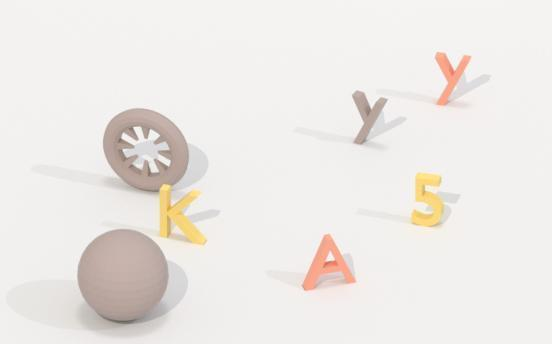chu_khoi: (302, 234, 355, 289), (159, 184, 206, 244), (435, 52, 471, 105), (352, 90, 386, 143)
dia_sao: (103, 108, 188, 190)
hinh_cau: (78, 229, 168, 321)
so_khoi: (411, 173, 443, 226)
